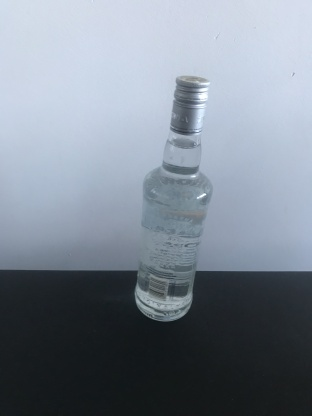nakretka: (168, 74, 212, 137)
